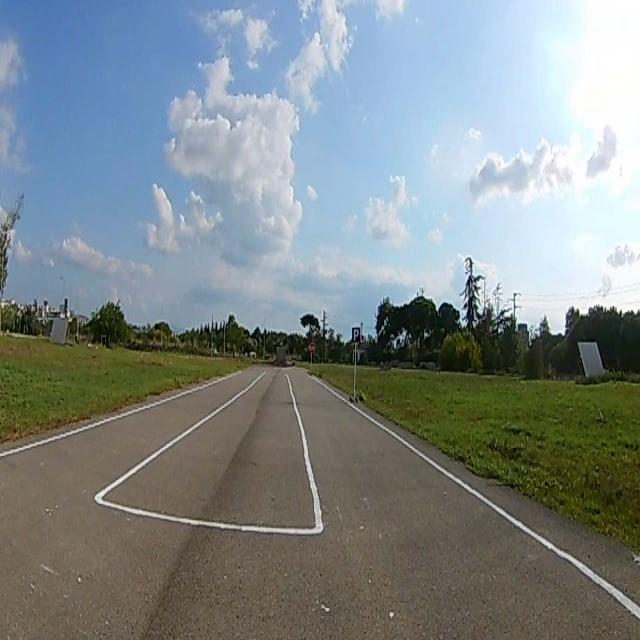park: (352, 328, 360, 342)
